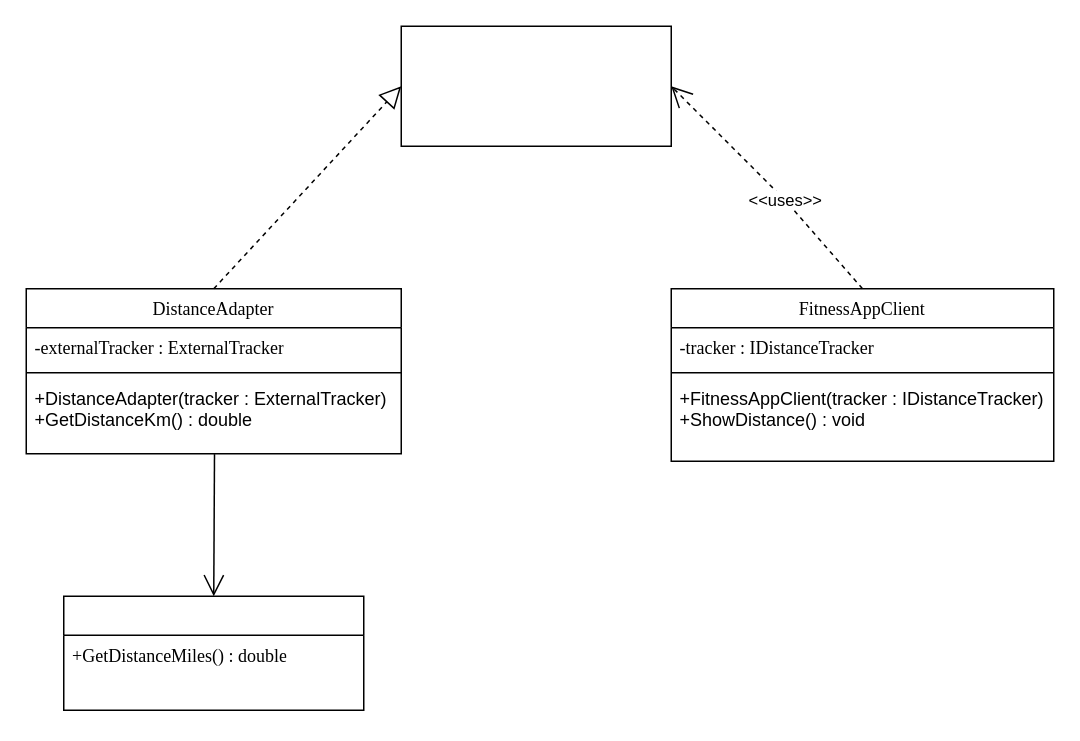
This 1080x741 diagram has some shape labels left out. The box of each missing label's shape, as (x1, y1, x2, y2) in pixels:
<<Interface>> IDistanceTracker +GetDistanceKm() : double: (400, 25, 671, 146)
ExternalTracker: (62, 595, 364, 710)
